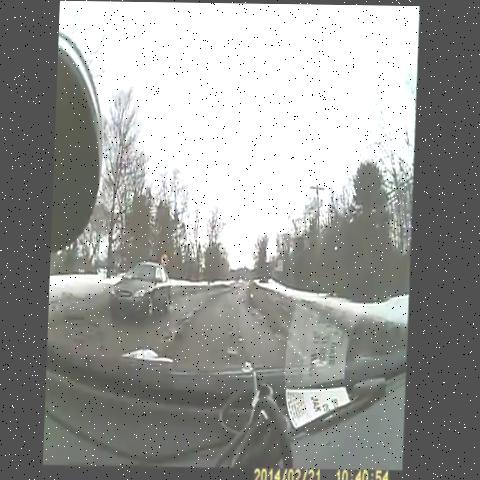pothole: (160, 318, 185, 353), (221, 334, 245, 367), (180, 299, 200, 327), (223, 314, 243, 337)
